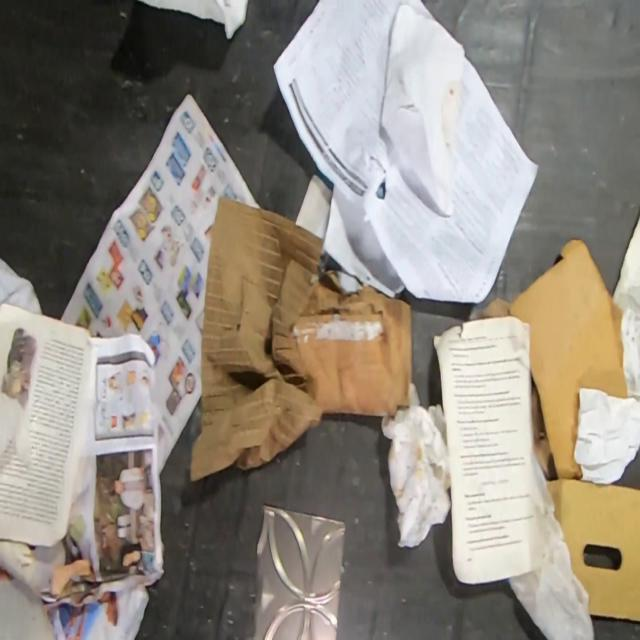cardboard: (188, 195, 412, 484), (469, 238, 631, 482), (544, 481, 640, 624)
metal: (255, 502, 346, 640)
